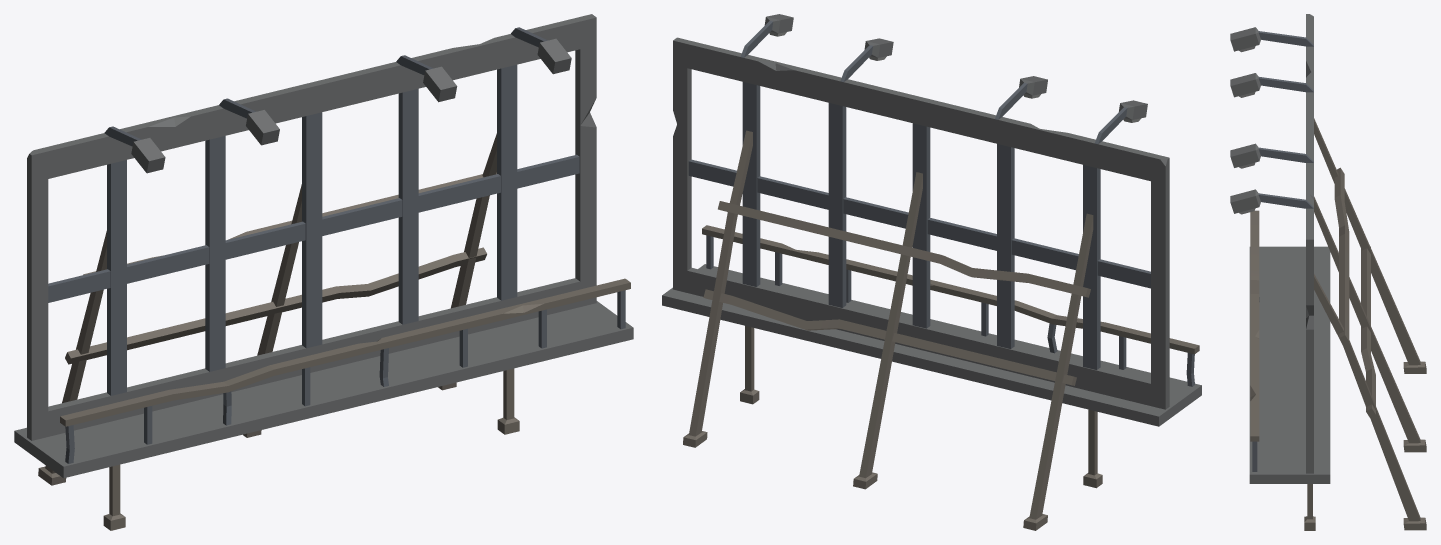
File: SM_Prop_Billboard_Roof_01.obj
3 renders of one model, left to right at view 1: azimuth 30°, elevation 25°; view 2: azimuth 150°, elevation 25°; view 3: azimuth 270°, elevation 25°, orthographic. The views are drawn at different scales.
Visible parts, largest first — view 1: SM_Prop_Billboard_Roof_01_0; view 2: SM_Prop_Billboard_Roof_01_0; view 3: SM_Prop_Billboard_Roof_01_0.
Boxes of the visible parts, box(x1,y1,x2,y2) form: SM_Prop_Billboard_Roof_01_0: box(14, 14, 633, 530); SM_Prop_Billboard_Roof_01_0: box(662, 14, 1201, 530); SM_Prop_Billboard_Roof_01_0: box(1230, 14, 1426, 530).
Bounding box in the file's own units: 4.43 × 3.06 × 1.61.
Materials: 1 (1 with a texture image).
